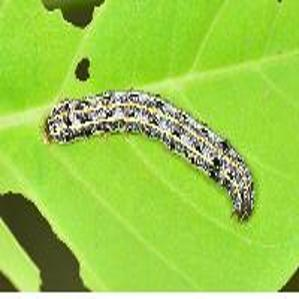Tobacco cutworm: (31, 72, 265, 241)
